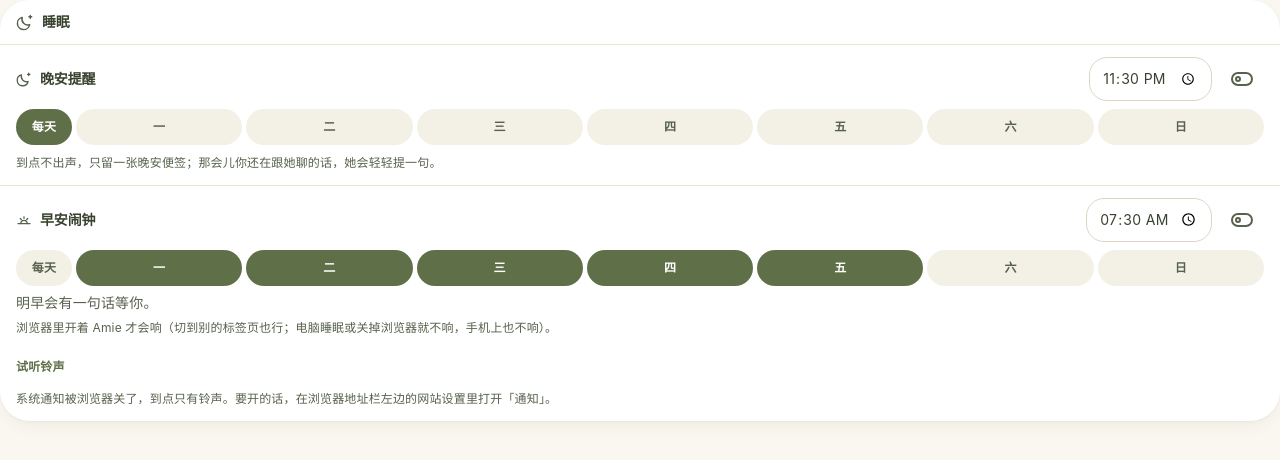
Scenario: 睡眠卡 › 试听一句；浏览器不让出声时如实说；通知被拦了也如实说
Check: the text "系统通知被浏览器关了，到点只有铃声。要开的话，在浏览器地址栏左边的网站设置里打开「通知」。" is shown, box [16,391,557,406]
Click the button "试听铃声": click(40, 367) [16,345,65,389]
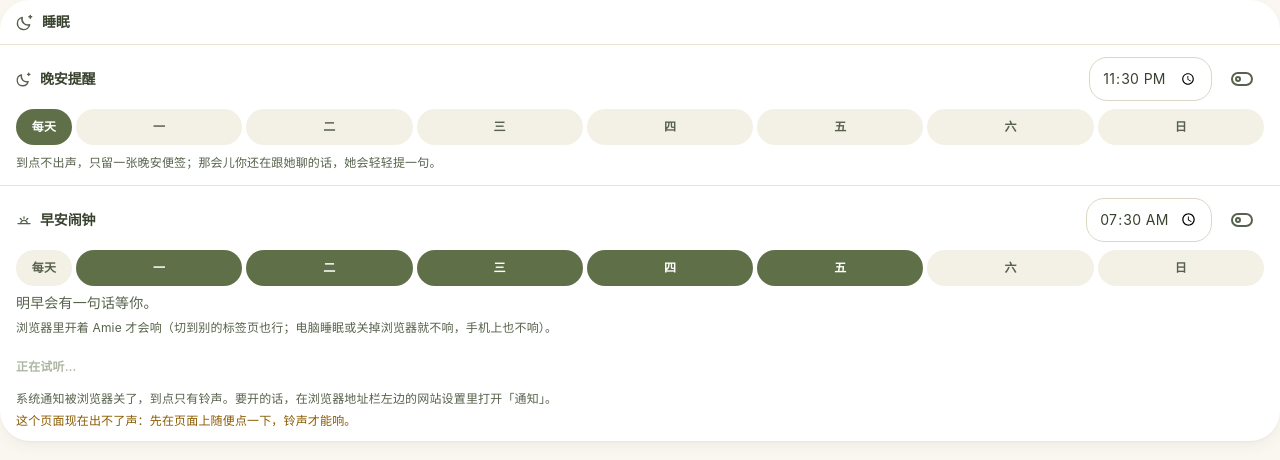
Check: the text "这个页面现在出不了声：先在页面上随便点一下，铃声才能响。" is shown, box [16,412,356,428]
